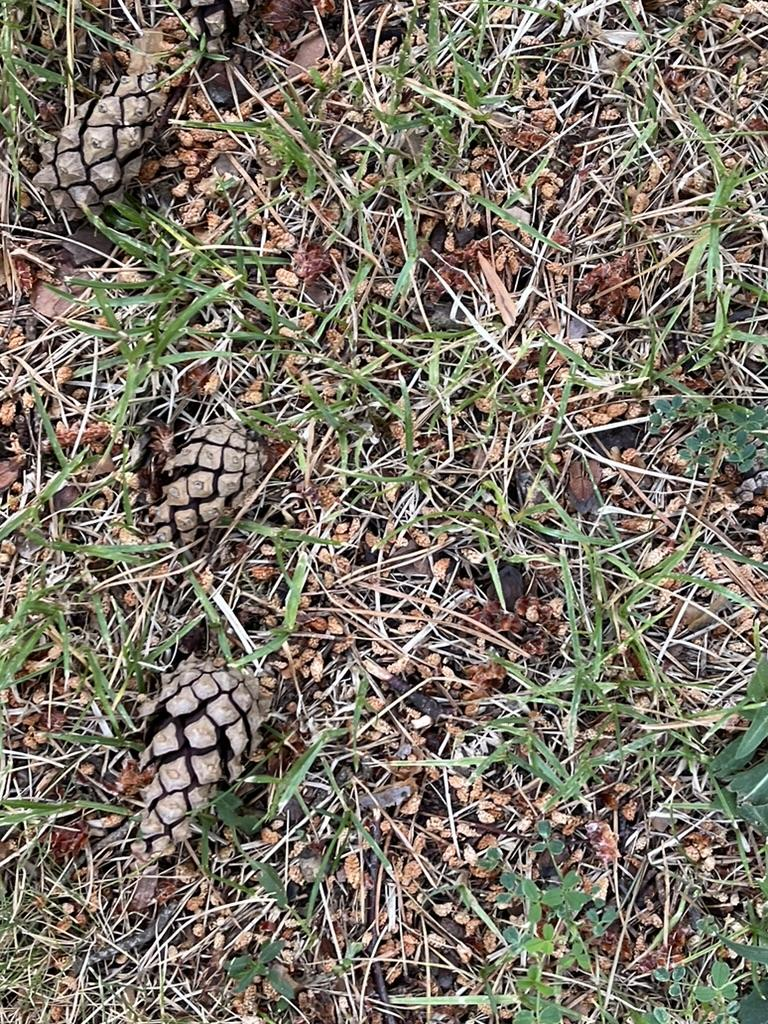pine: (106, 648, 296, 888), (23, 63, 176, 230), (138, 408, 266, 583), (166, 0, 323, 58)
